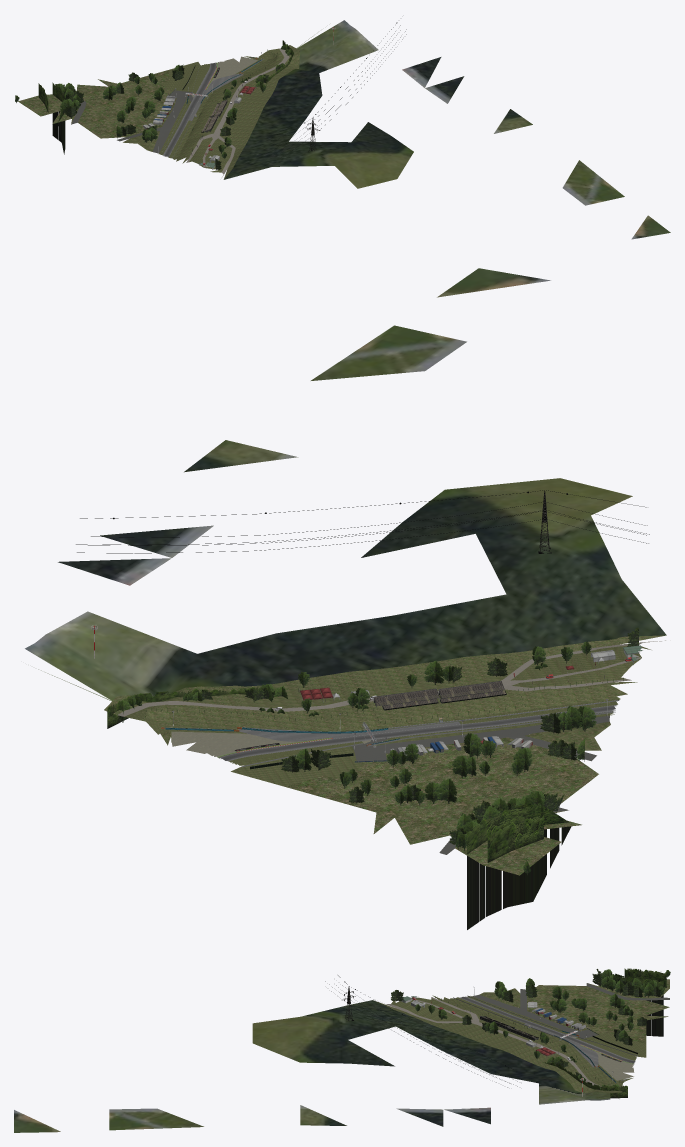
3 views of the same model, one above another, from view 1: azimuth 30°, elevation 25°; view 2: azimuth 150°, elevation 25°; view 3: azimuth 270°, elevation 25° (orthographic). The views are drawn at different scales.
Parts seen in each view (by area): view 1: tile_t11; view 2: tile_t11; view 3: tile_t11.
Part boxes in pixels (<box>): tile_t11: <box>15,20,670,239</box>; tile_t11: <box>25,268,666,929</box>; tile_t11: <box>14,968,670,1132</box>.
Size of the model in its own units: 553 by 160 by 881.
Materials: 38 (38 with a texture image).
